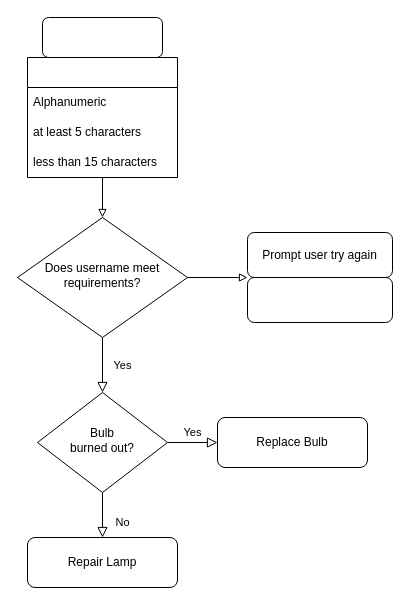
Some shapes in this 410 by 605 pixel diagram are drawn without their labels. The box of each missing label's shape, as (x1, y1, x2, y2) in pixels:
Explain error to user (ie, 'UN must be at least 5 characters'): (246, 276, 392, 322)
Prompt user "choose username": (42, 16, 162, 58)
Username requirements: (26, 56, 178, 178)
